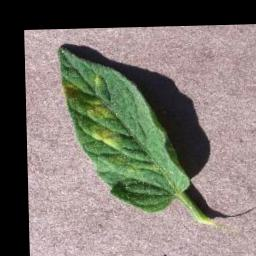Leaf_Mold: (61, 73, 117, 121), (91, 122, 123, 148)
